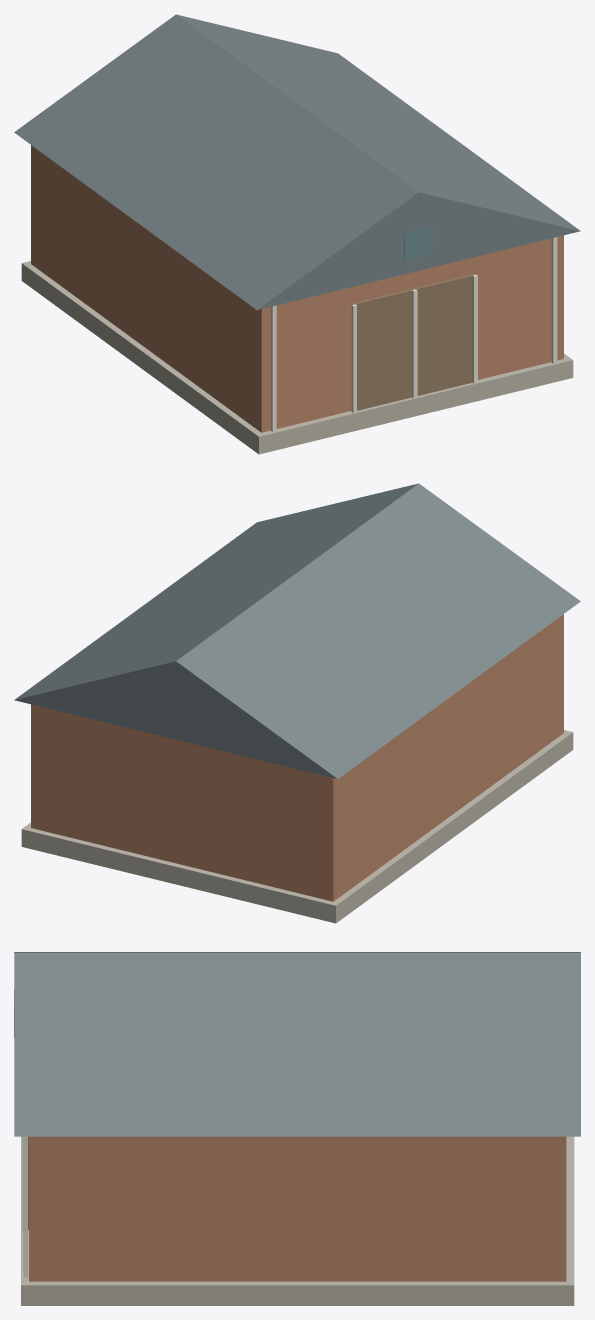
3 views of the same model, one above another, from view 1: azimuth 30°, elevation 25°; view 2: azimuth 150°, elevation 25°; view 3: azimuth 270°, elevation 25° (orthographic). The views are drawn at different scales.
Bounding box in the file's own units: 13.4 × 8.93 × 17.41.
